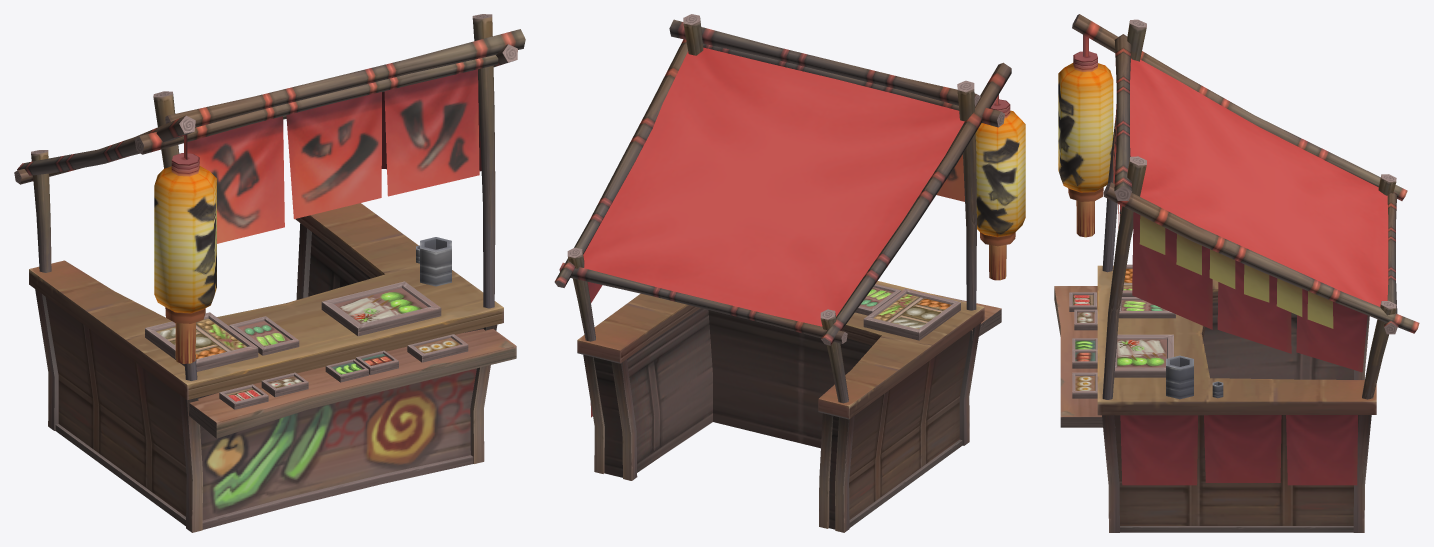
3 renders of one model, left to right at view 1: azimuth 30°, elevation 25°; view 2: azimuth 150°, elevation 25°; view 3: azimuth 270°, elevation 25°, orthographic. The views are drawn at different scales.
Visible parts, largest first — view 1: wq_jz001_01; view 2: wq_jz001_01; view 3: wq_jz001_01.
Boxes of the visible parts, box(x1,y1,x2,y2) form: wq_jz001_01: box(14, 14, 525, 532); wq_jz001_01: box(554, 14, 1025, 532); wq_jz001_01: box(1054, 14, 1419, 532).
Size of the model in its own units: 230 by 250 by 215.
1 material, 1 textured.
